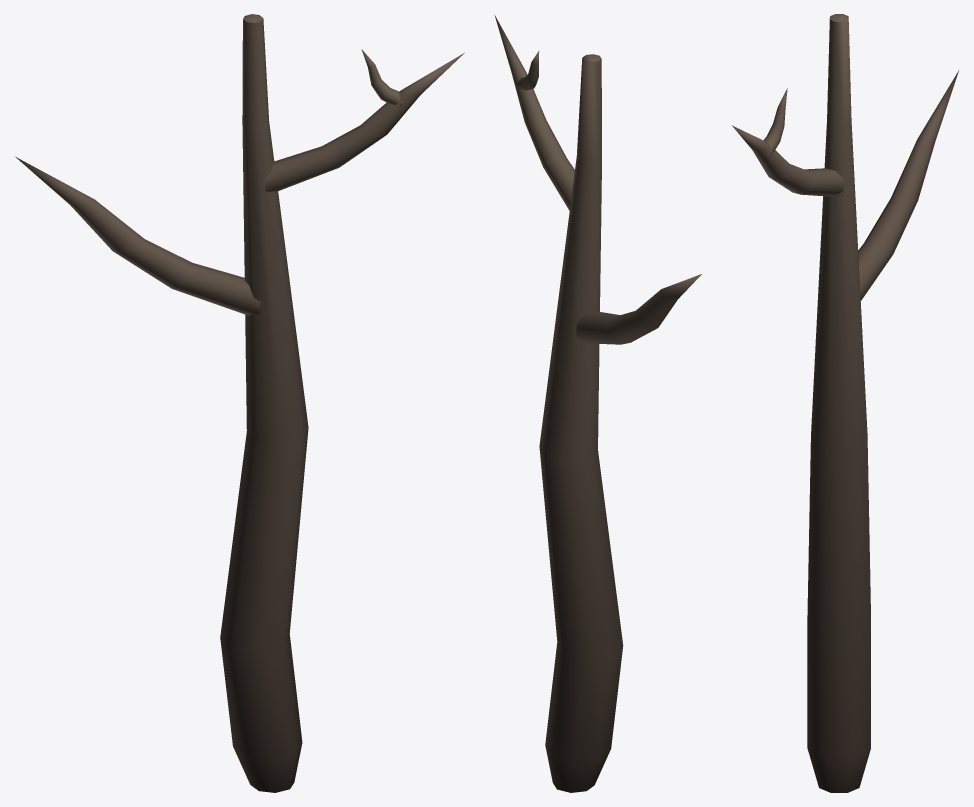
File: tree-dead-large.glb
The picture shows the model from 3 angles, left to right: view 1: azimuth 30°, elevation 25°; view 2: azimuth 150°, elevation 25°; view 3: azimuth 270°, elevation 25°; orthographic projection. The views are drawn at different scales.
Parts seen in each view (by area): view 1: tree-dead-large; view 2: tree-dead-large; view 3: tree-dead-large.
Part boxes in pixels (x1=…): tree-dead-large: x1=15, y1=14, x2=464, y2=792; tree-dead-large: x1=494, y1=15, x2=701, y2=792; tree-dead-large: x1=732, y1=14, x2=958, y2=792.
Bounding box in the file's own units: 2.95 × 6.5 × 1.77.
